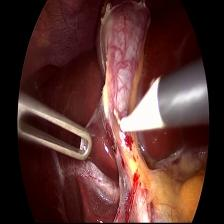Grasper: (18, 87, 94, 163)
Hook: (112, 76, 166, 136)
